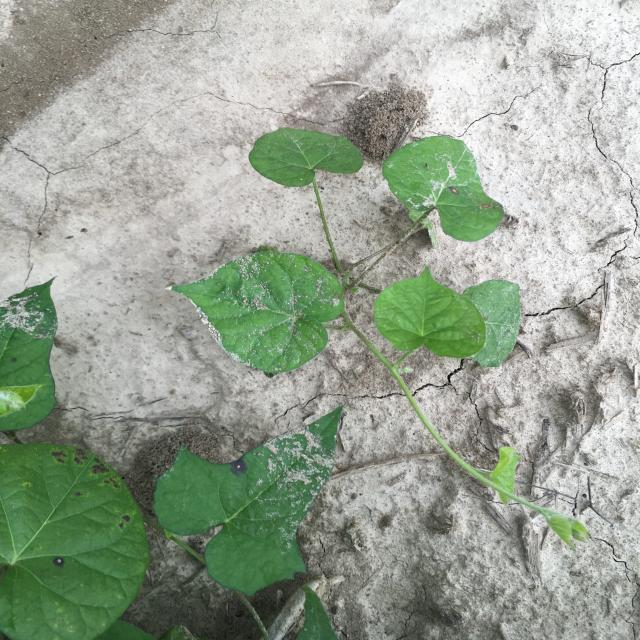MorningGlory: (171, 125, 590, 551), (0, 276, 344, 640)
